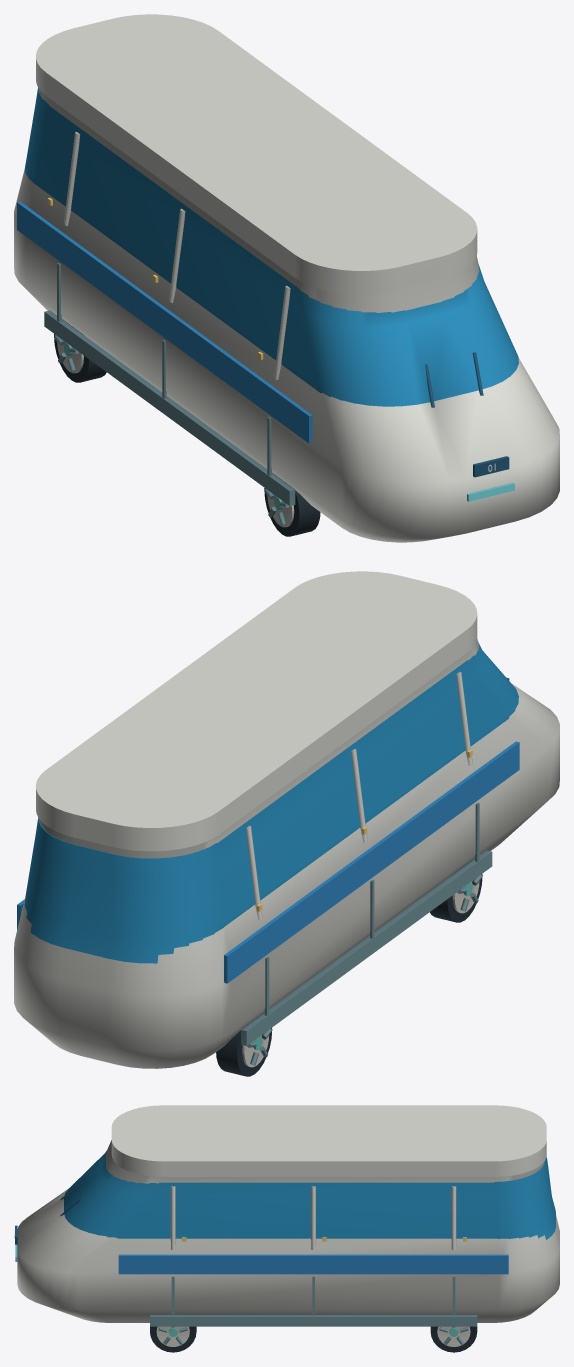
The model's file is train-cab.glb.
The picture shows the model from 3 angles, top to bottom: view 1: azimuth 30°, elevation 25°; view 2: azimuth 150°, elevation 25°; view 3: azimuth 270°, elevation 25°; orthographic projection. The views are drawn at different scales.
Visible parts, largest first — view 1: streamlined driver shell, sloped cab panorama, train blue ribbon, aero spoke, electric tire, cab windshield wiper; view 2: streamlined driver shell, sloped cab panorama, train blue ribbon, aero spoke, electric tire; view 3: streamlined driver shell, sloped cab panorama, train blue ribbon, aero spoke, electric tire.
Part boxes in pixels (left/top/right/bottom): streamlined driver shell: left=14, top=14, right=559, bottom=542; sloped cab panorama: left=25, top=87, right=518, bottom=406; train blue ribbon: left=17, top=201, right=312, bottom=443; aero spoke: left=44, top=263, right=295, bottom=525; electric tire: left=54, top=319, right=320, bottom=536; cab windshield wiper: left=425, top=352, right=509, bottom=477; streamlined driver shell: left=14, top=571, right=559, bottom=1068; sloped cab panorama: left=24, top=643, right=518, bottom=963; train blue ribbon: left=17, top=741, right=519, bottom=983; aero spoke: left=241, top=803, right=492, bottom=1065; electric tire: left=216, top=858, right=482, bottom=1076; streamlined driver shell: left=14, top=1105, right=559, bottom=1346; sloped cab panorama: left=64, top=1150, right=555, bottom=1239; train blue ribbon: left=118, top=1254, right=508, bottom=1274; aero spoke: left=150, top=1276, right=477, bottom=1344; electric tire: left=150, top=1326, right=477, bottom=1352.
Size of the model in its own units: 1.05 by 1.34 by 3.5.
